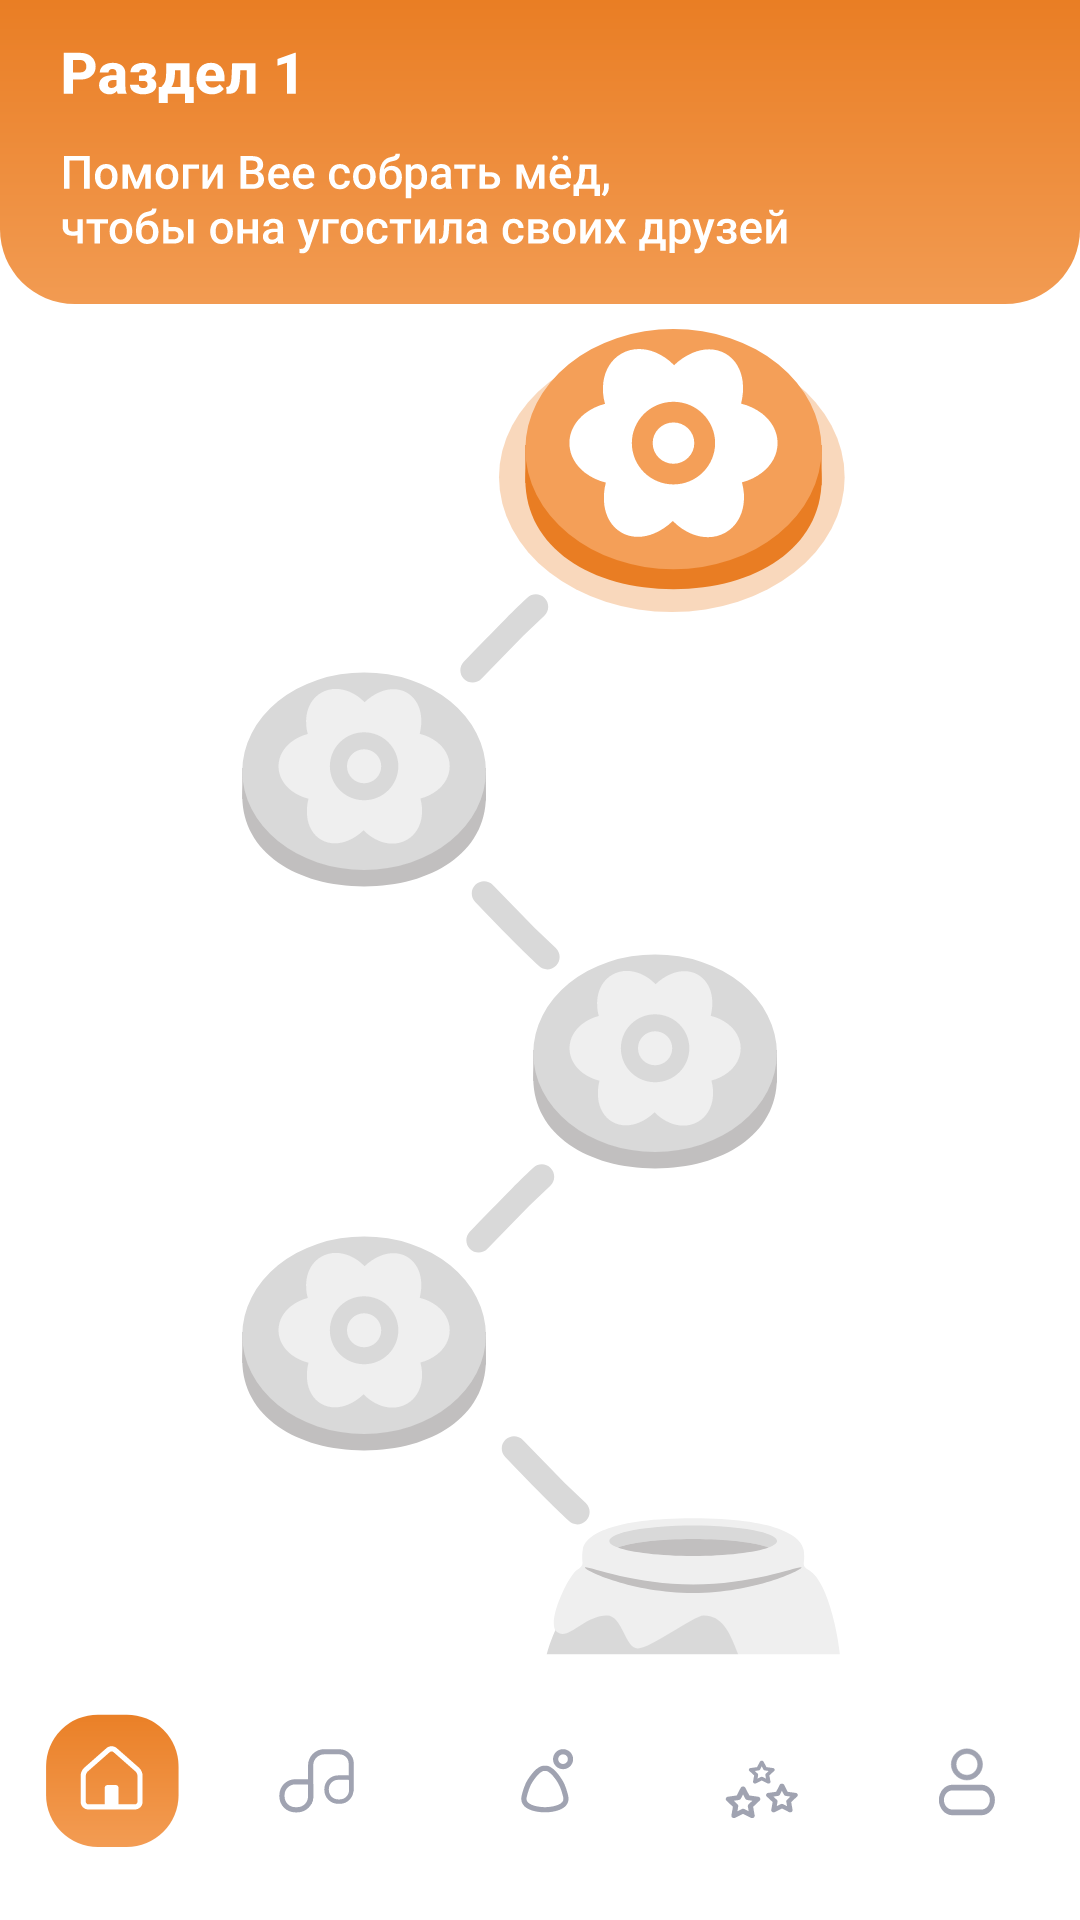

Icon click points for this 1080w x 1920h phone screenshot, format [x,y]:
gold flower: [672,470]
